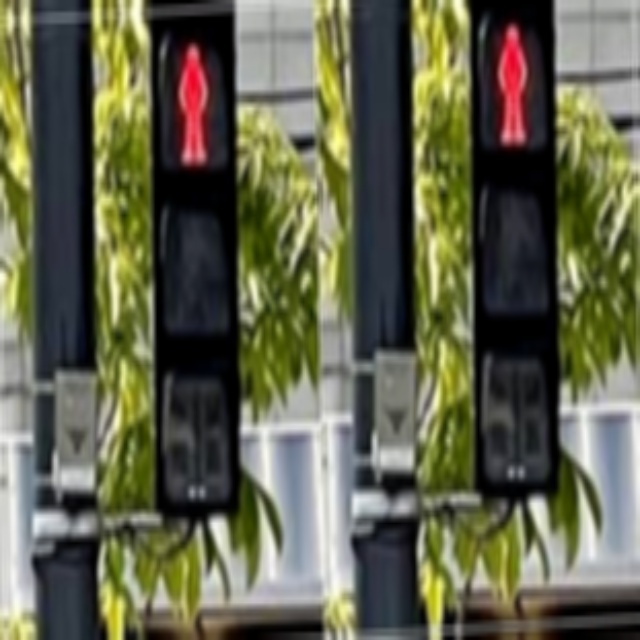red_light: (172, 36, 214, 167), (492, 22, 534, 149)
